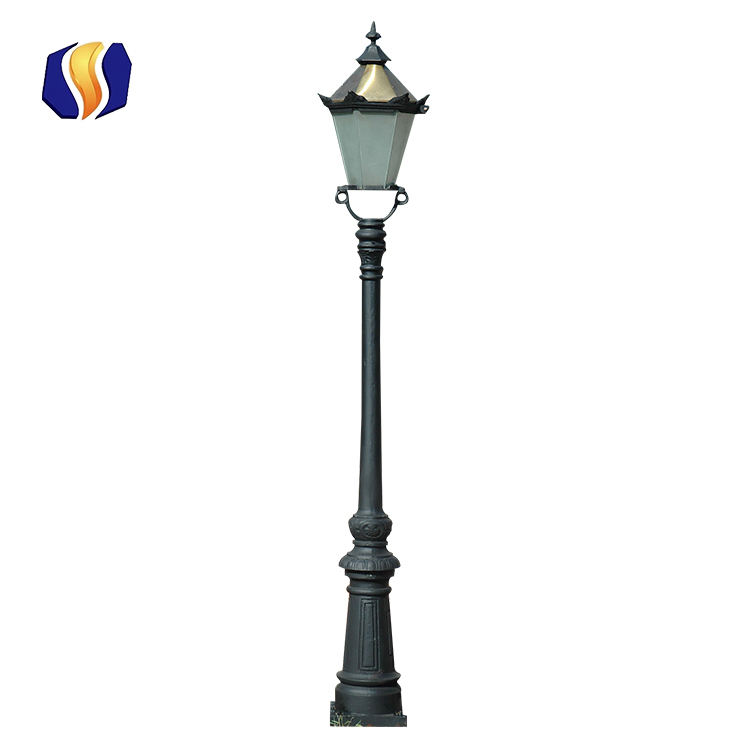light_pole: (320, 66, 420, 731)
